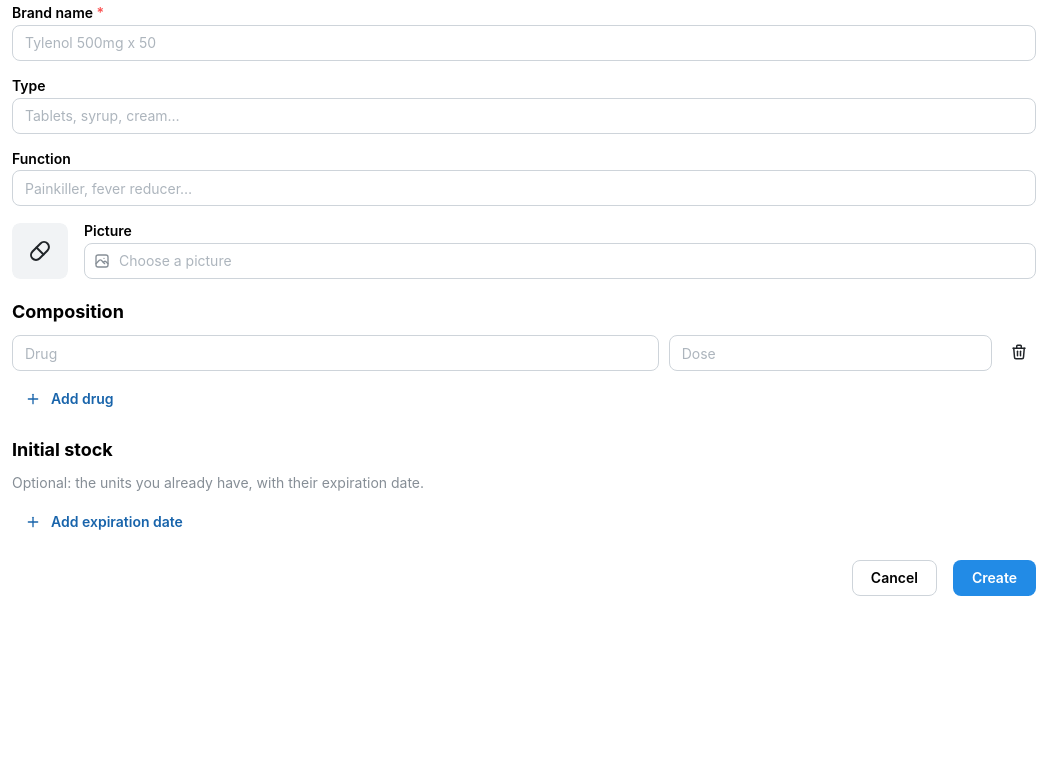
MedicationForm › rejects the same drug twice, ignoring case
Step 1. Type "Tafirol" into the field labelled "Brand name *" → (524, 43), box [12,25,1036,61]
Step 2. Click the button "Add drug" → (72, 399), box [12,381,133,417]
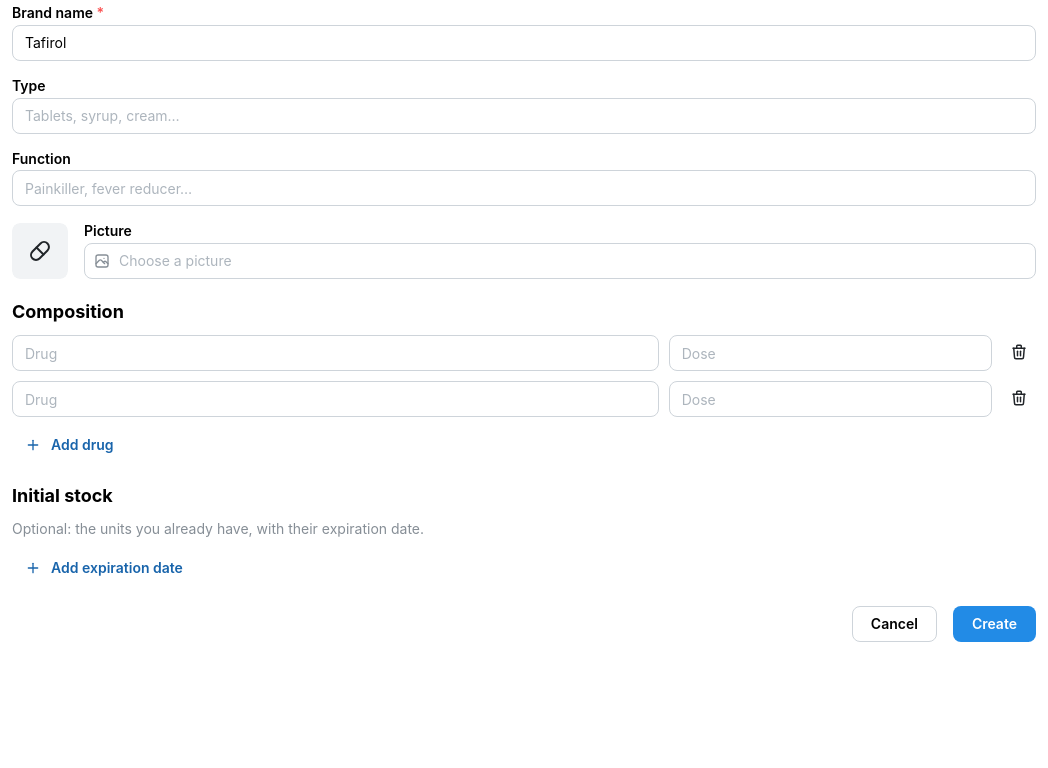
Step 3. Type "Paracetamol" into the 1st dropdown labelled "Drug" → (335, 353), box [12,335,659,371]
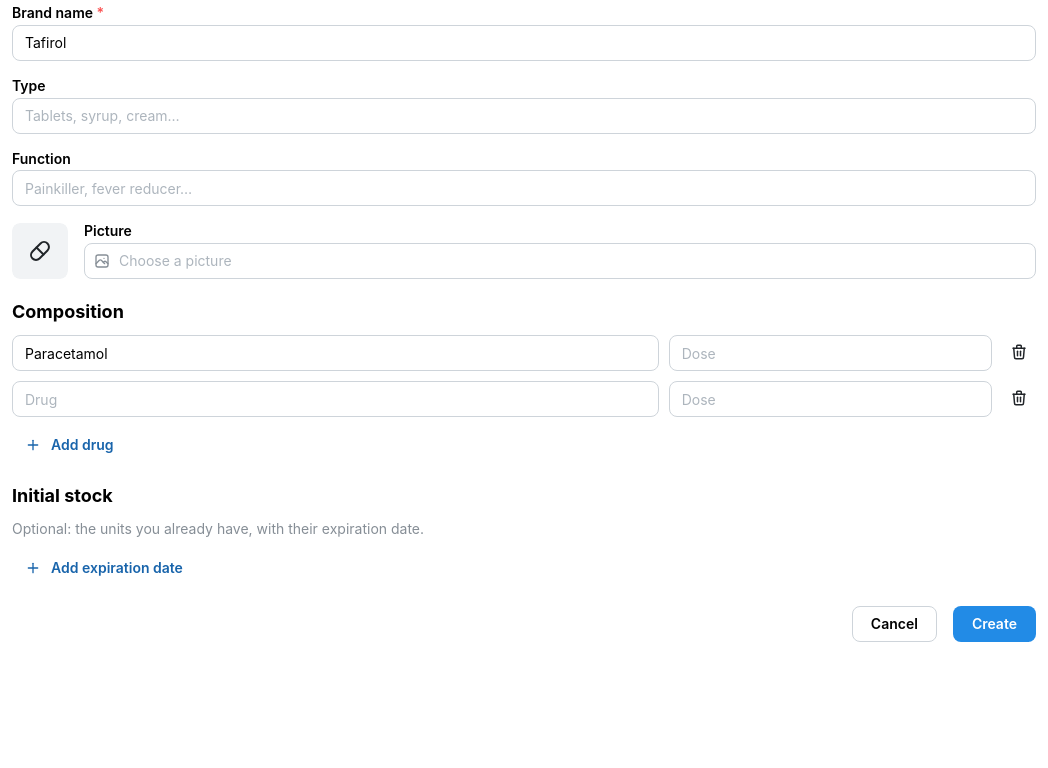
Step 4. Type "500 mg" into the 1st field labelled "Dose" → (830, 353), box [669,335,992,371]
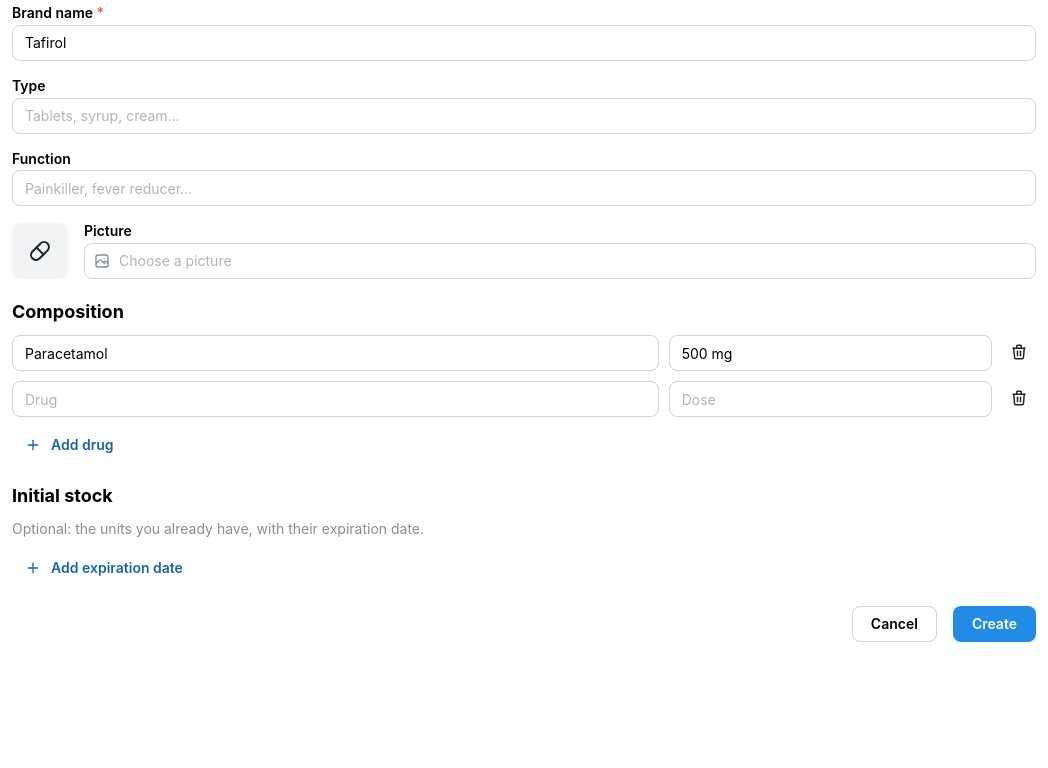
Step 5. Type "paracetamol " into the dropdown labelled "Drug" → (335, 399), box [12,381,659,417]
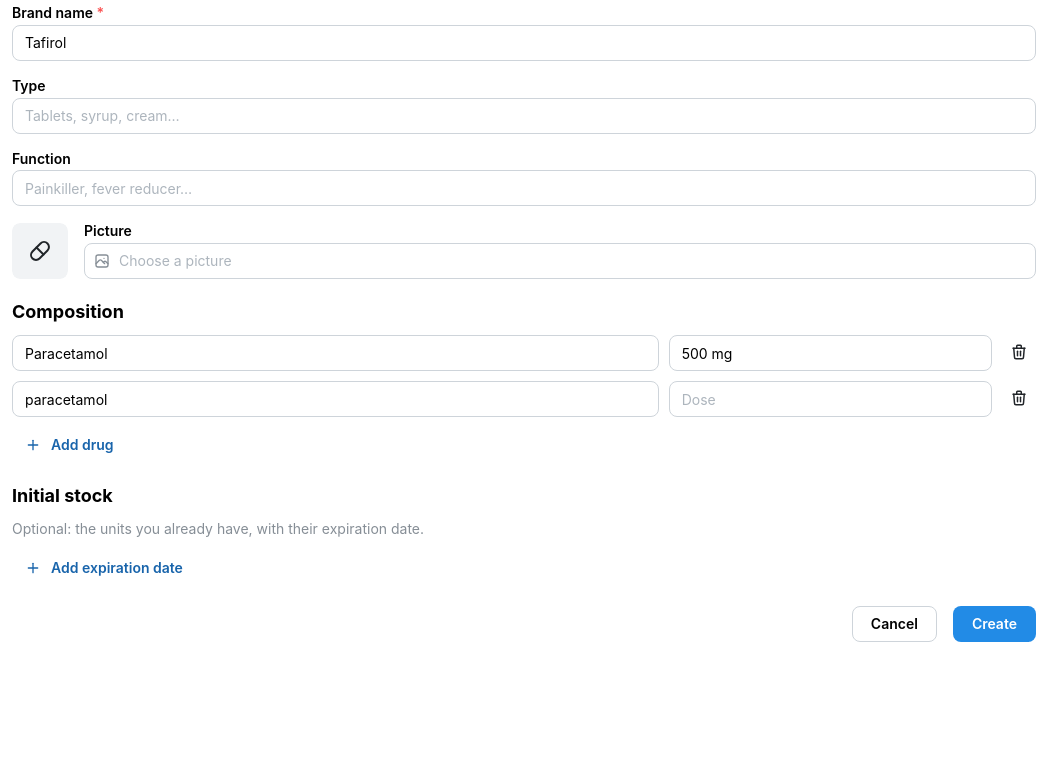
Step 6. Type "1 g" into the field labelled "Dose" → (830, 399), box [669,381,992,417]
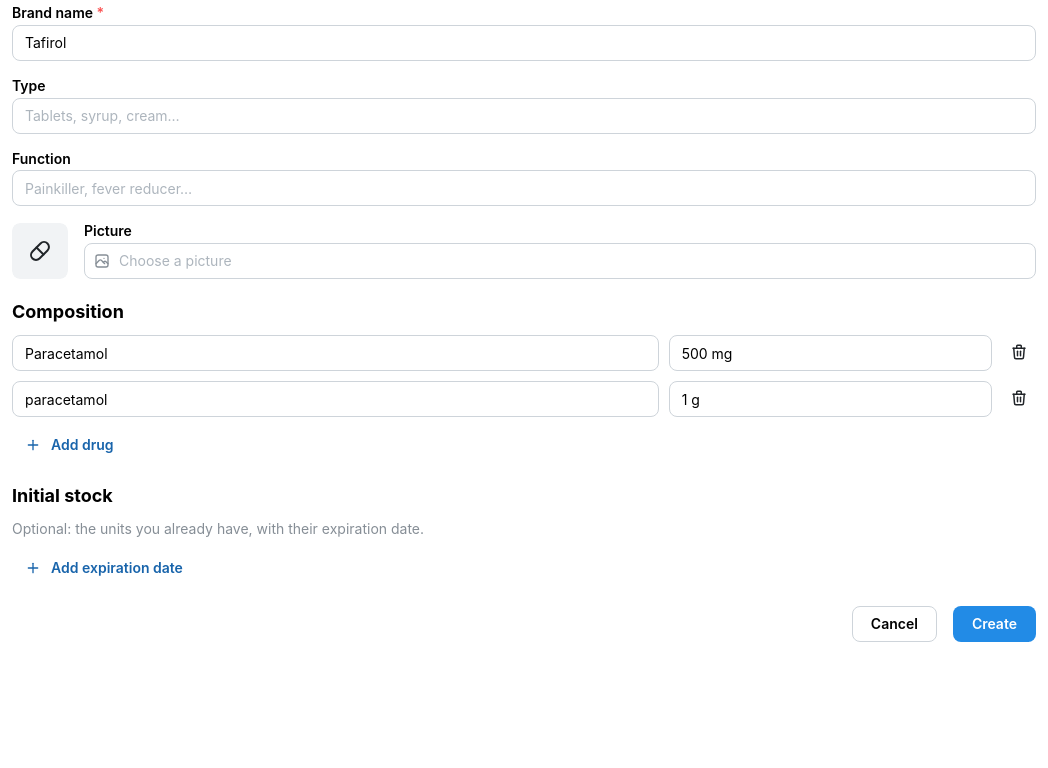
Step 7. Click the button "Create" → (994, 624), box [953,606,1036,642]
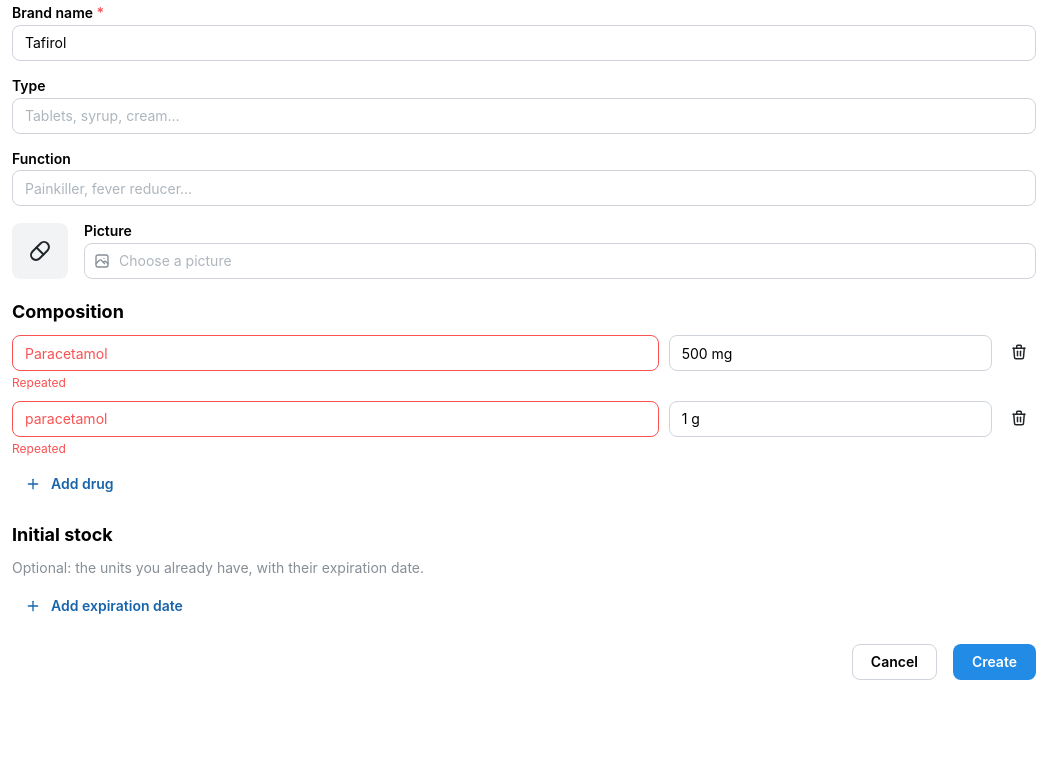
expect the text "Repeated" is shown 2 times: met, box [12,375,66,390]; [12,441,66,456]
